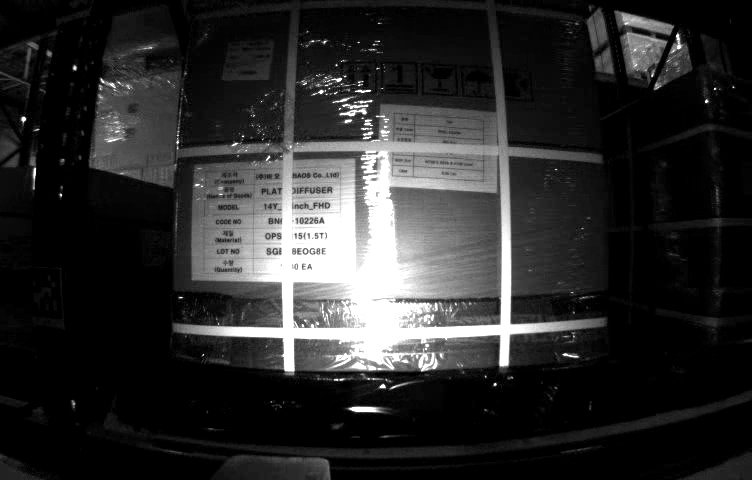True Barcode: (226, 38, 274, 81)
